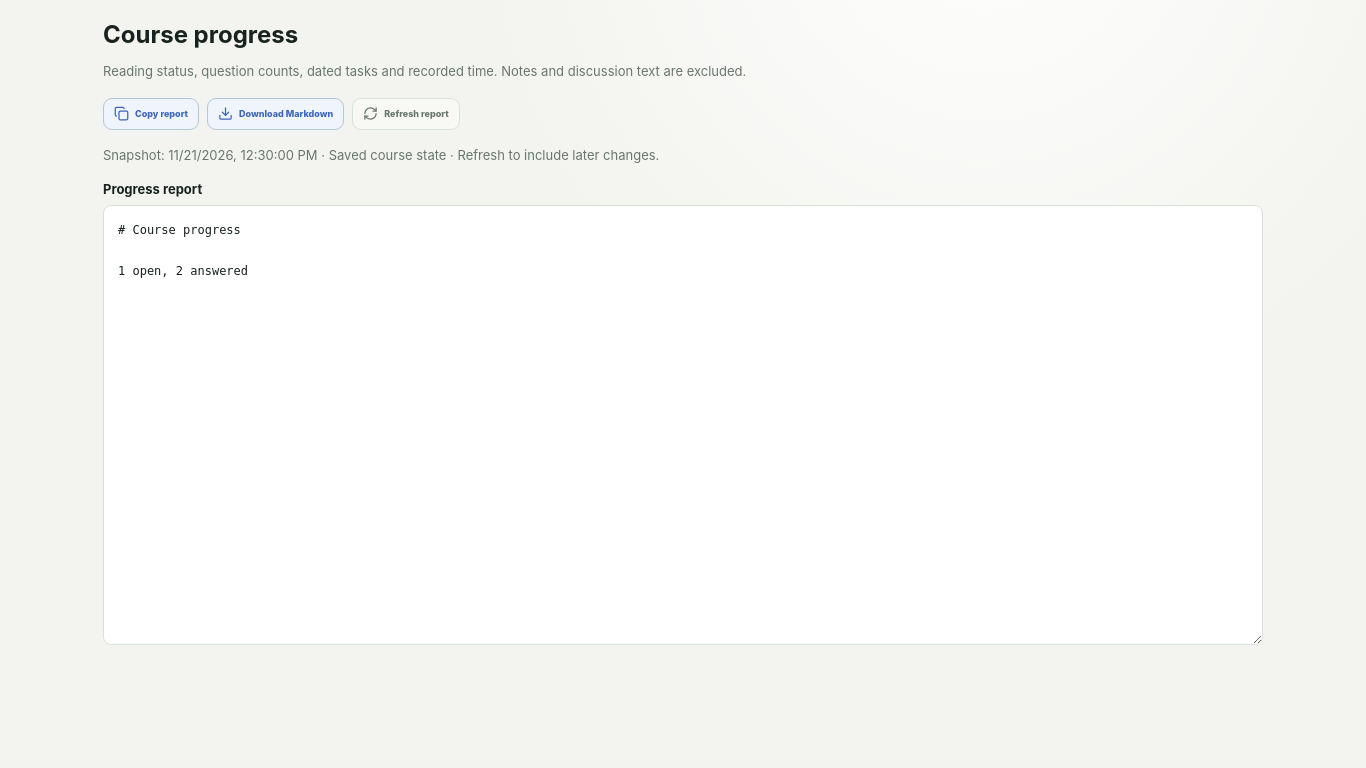
Test: selects the report for manual copying if clipboard access is denied
Click the button "Copy report".
click(151, 114)  # box [103,98,199,130]
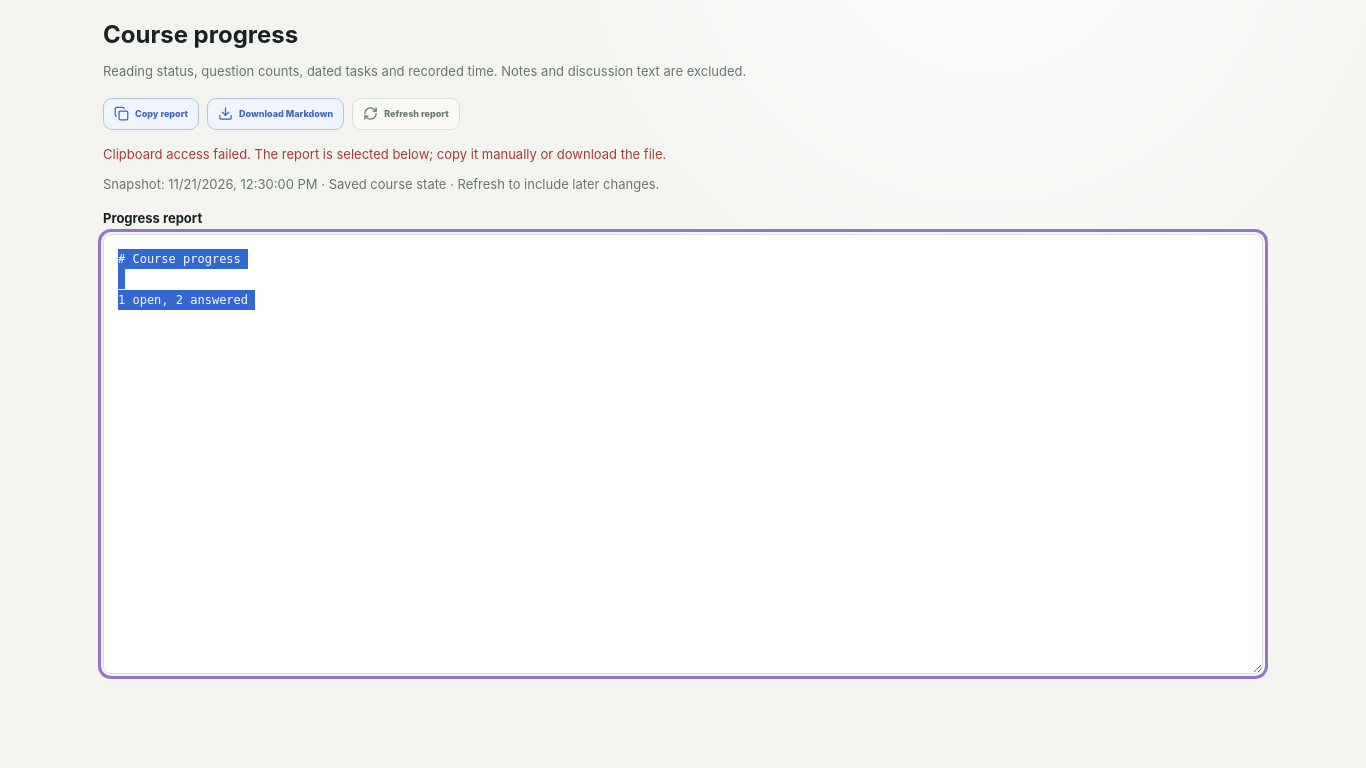
Check: the message shows "copy it manually or download", box [103,146,666,162]
